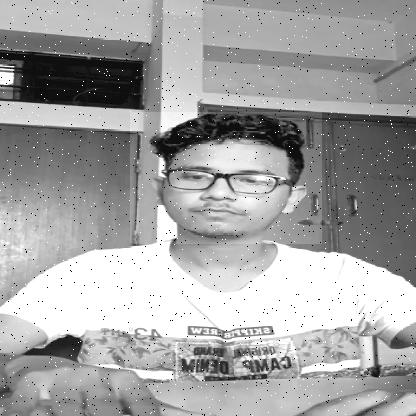Normal: (130, 112, 322, 244)
